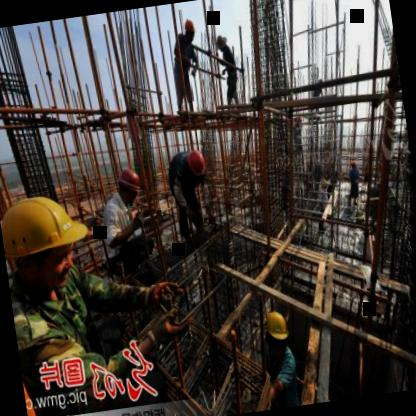helmet: (0, 187, 95, 296), (260, 308, 292, 357), (116, 168, 144, 208), (185, 143, 210, 181), (182, 18, 199, 44)
